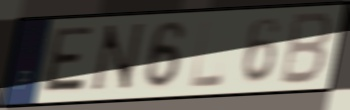6: (142, 18, 189, 92), (240, 15, 282, 87)
B: (276, 10, 337, 87)
E: (39, 24, 97, 96)
L: (188, 17, 227, 91)
N: (85, 20, 148, 97)
